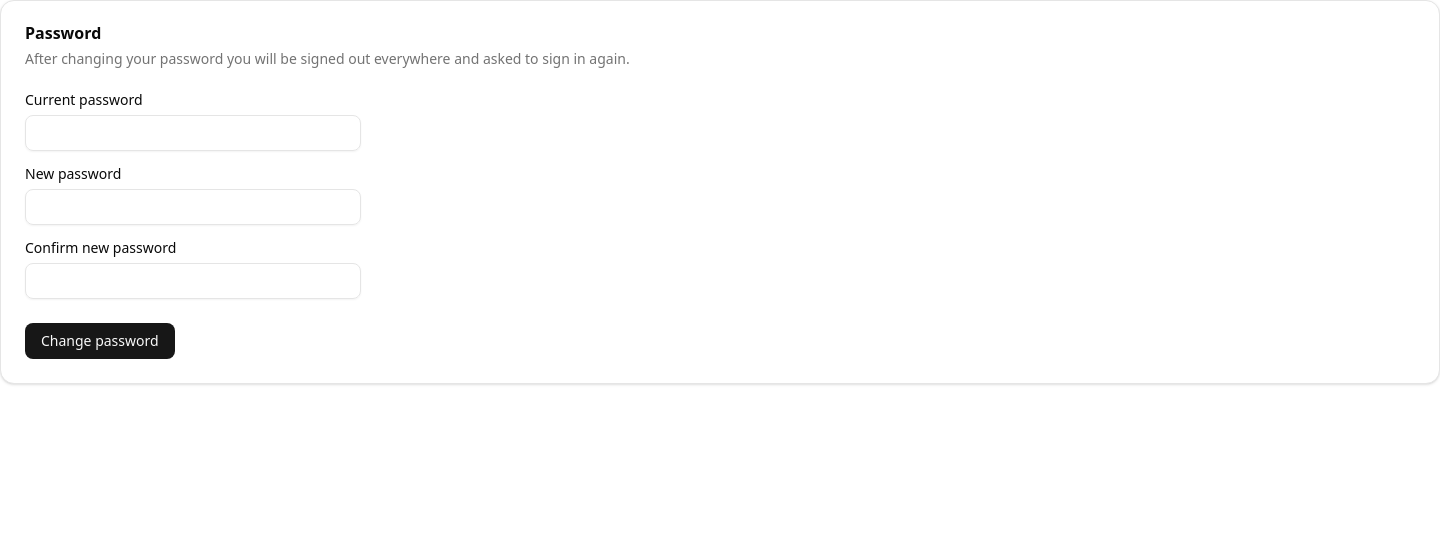
Test: PasswordForm › explains rate limiting
Type "old-secret-1" into the password field labelled "Current password" at (193, 133), box x1=25 y1=115 x2=361 y2=151
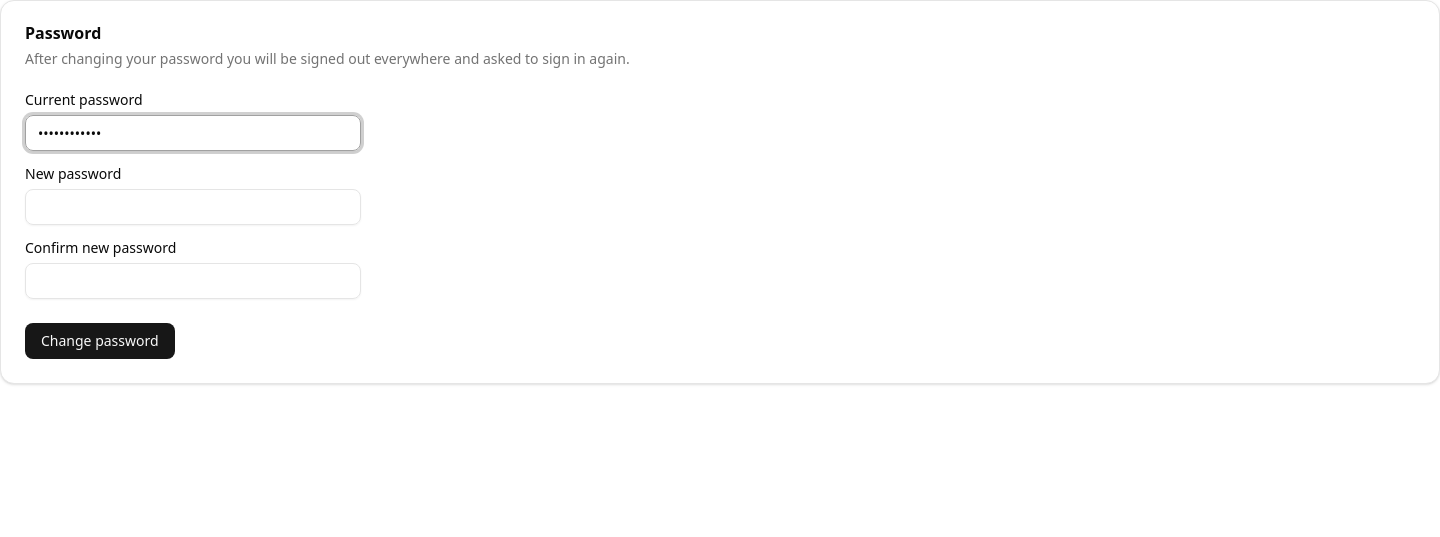
Type "new-secret-1" into the password field labelled "New password" at (193, 207), box x1=25 y1=189 x2=361 y2=225
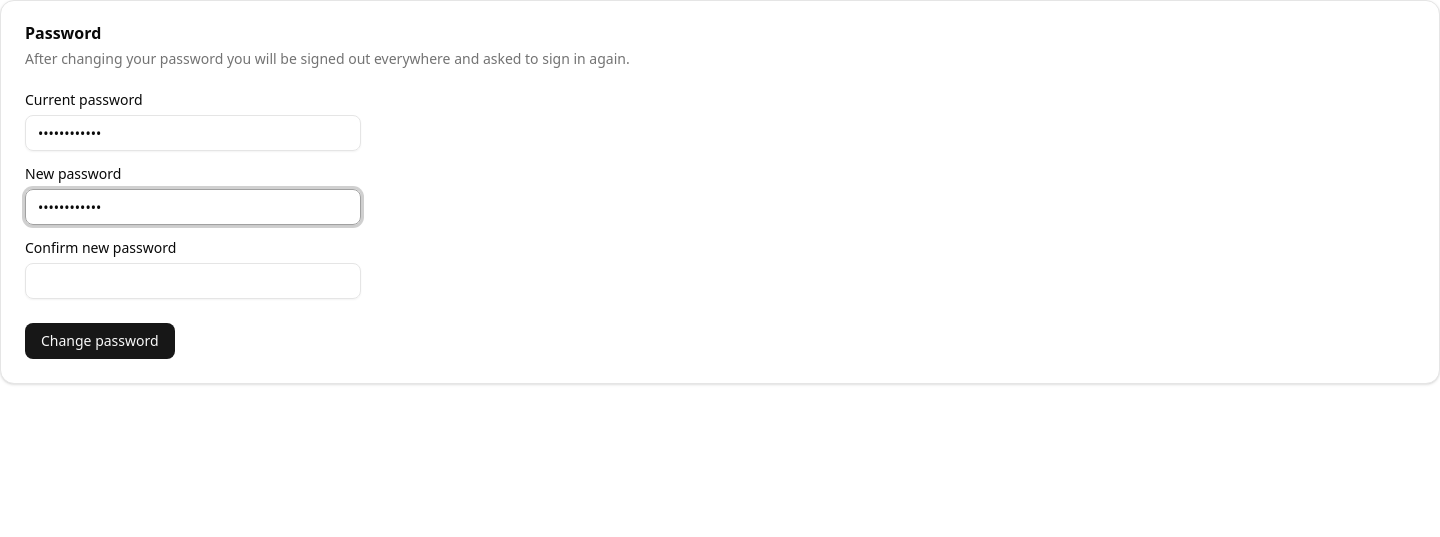
Type "new-secret-1" into the password field labelled "Confirm new password" at (193, 281), box x1=25 y1=263 x2=361 y2=299
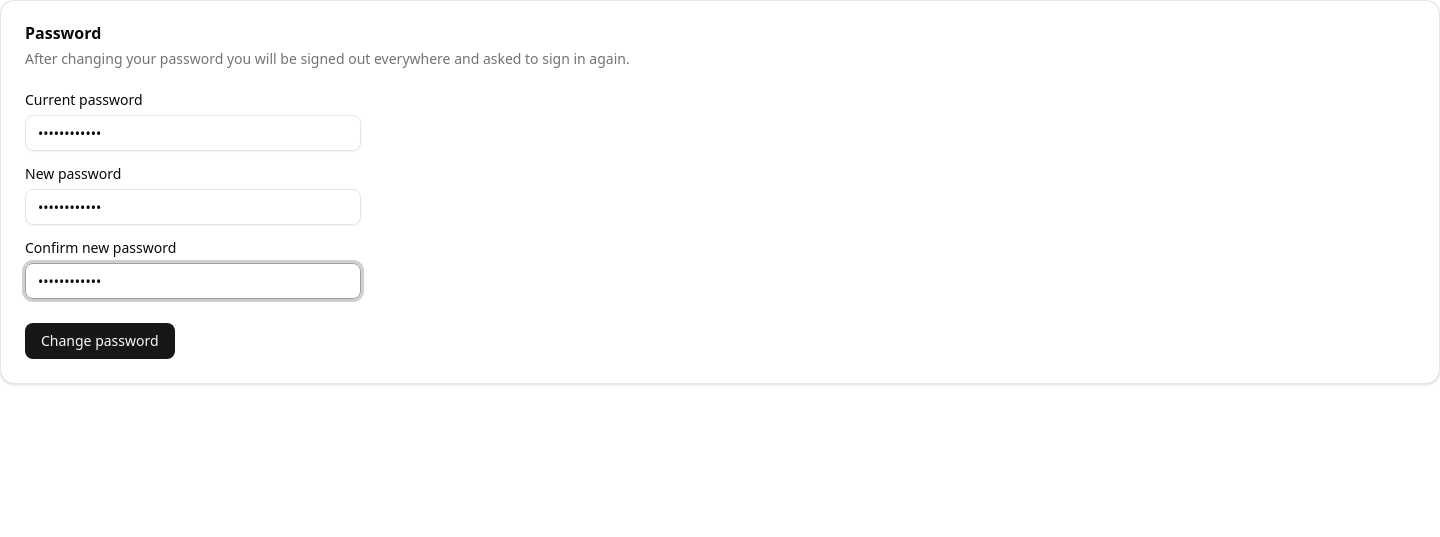
Click the button "Change password" at (100, 341), box x1=25 y1=323 x2=175 y2=359
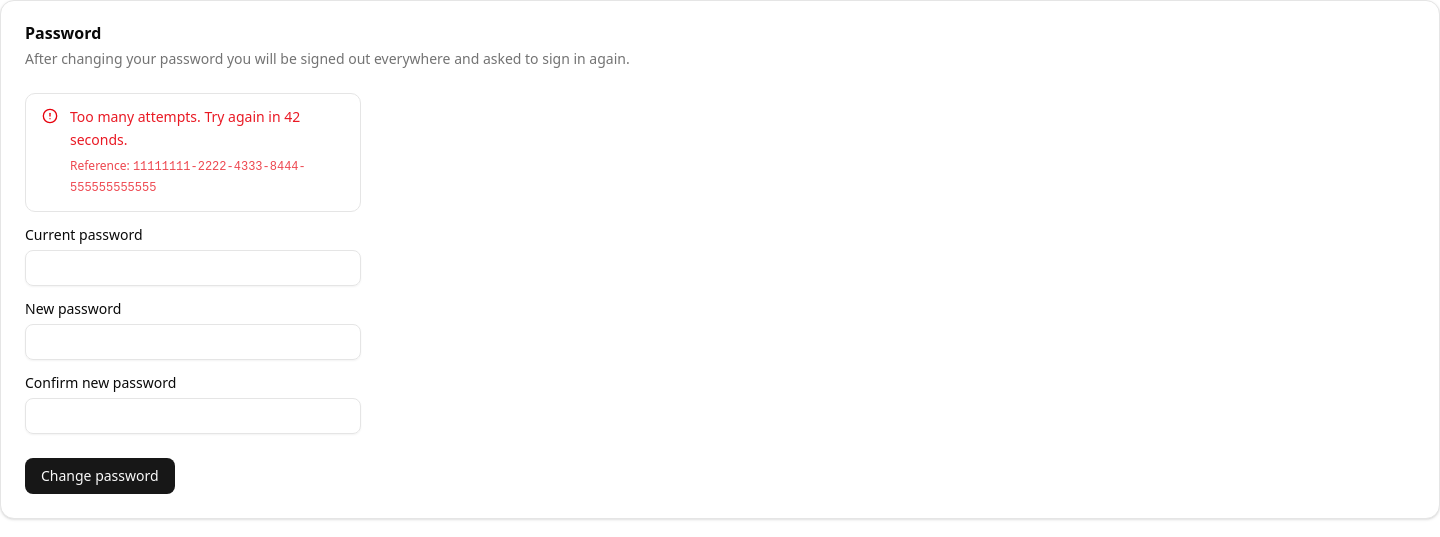
Expected: the message shows "Too many attempts. Try again in 42 seconds.", x1=70 y1=107 x2=300 y2=149
